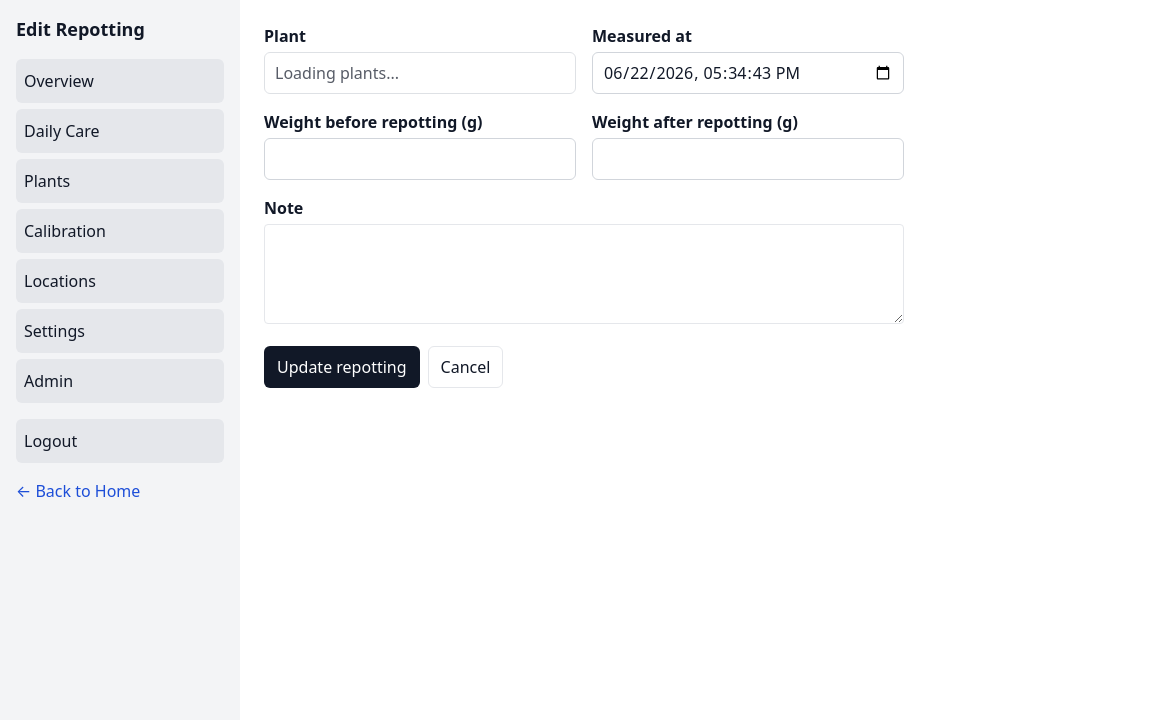
pages/RepottingCreate › edit flow: save error shows server message (update branch)
The width and height of the screenshot is (1152, 720).
Type "11" into the number field labelled "Weight before repotting (g)" at coordinates (420, 159), box [264, 138, 576, 180]
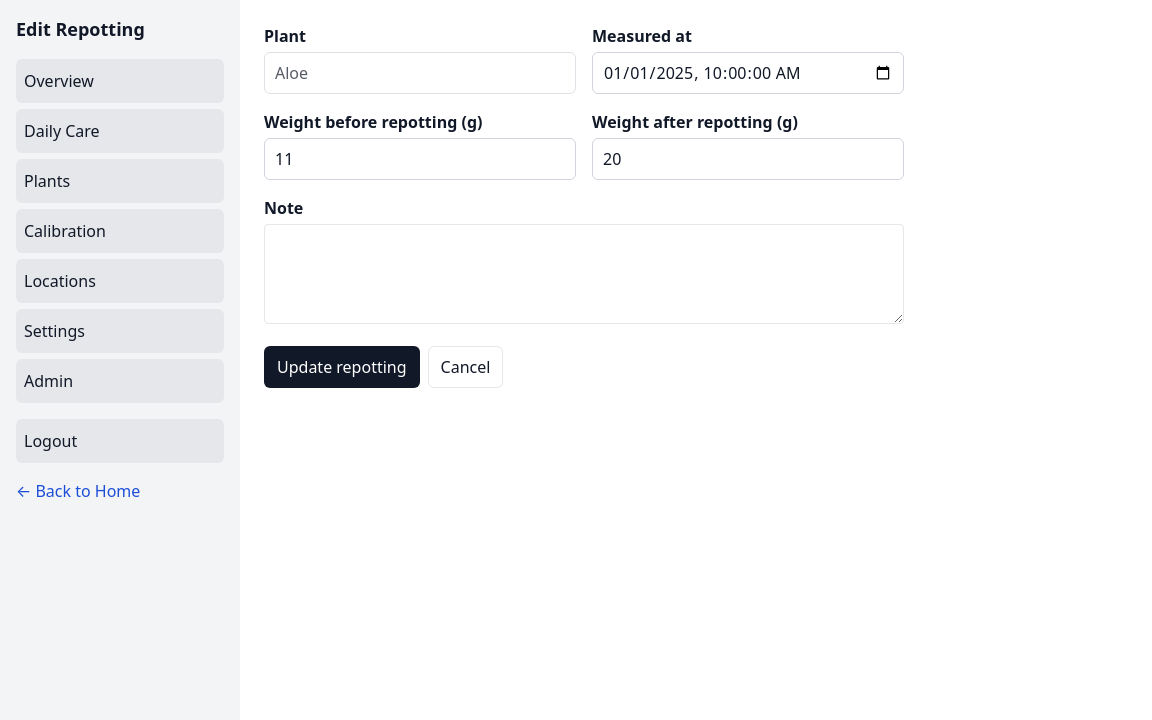
Replace the text in the number field labelled "Weight after repotting (g)" with "22" at coordinates (748, 159), box [592, 138, 904, 180]
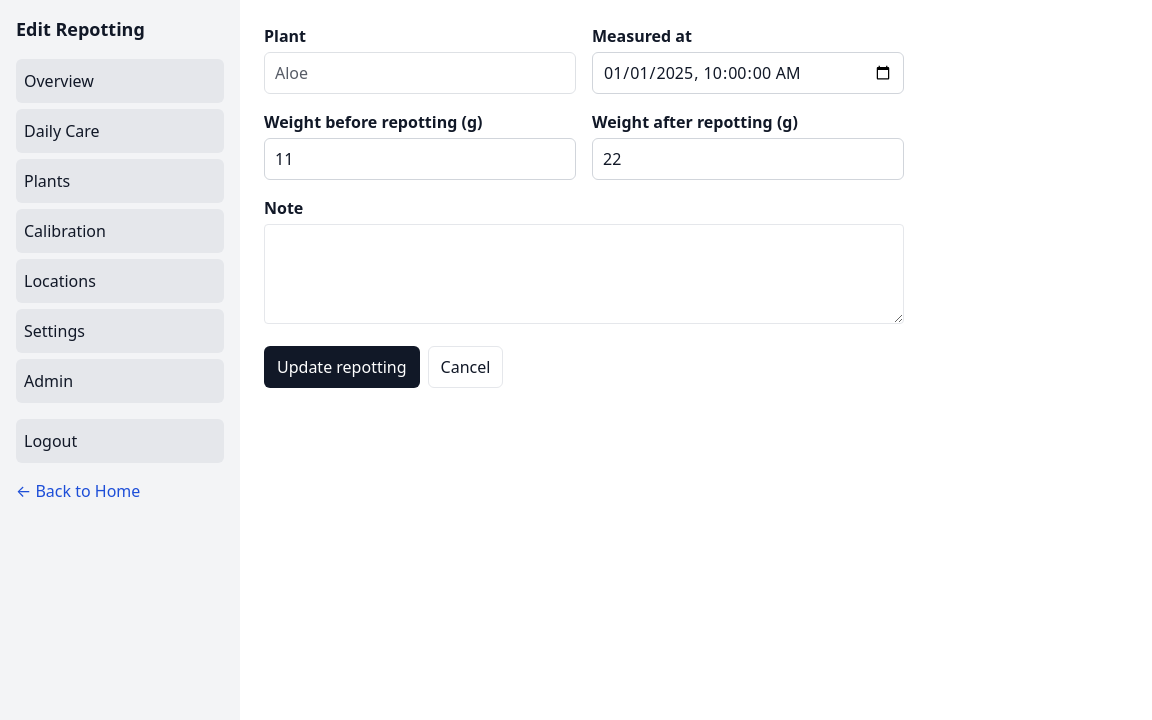
Click the button "Update repotting" at coordinates (342, 367), box [264, 346, 420, 388]
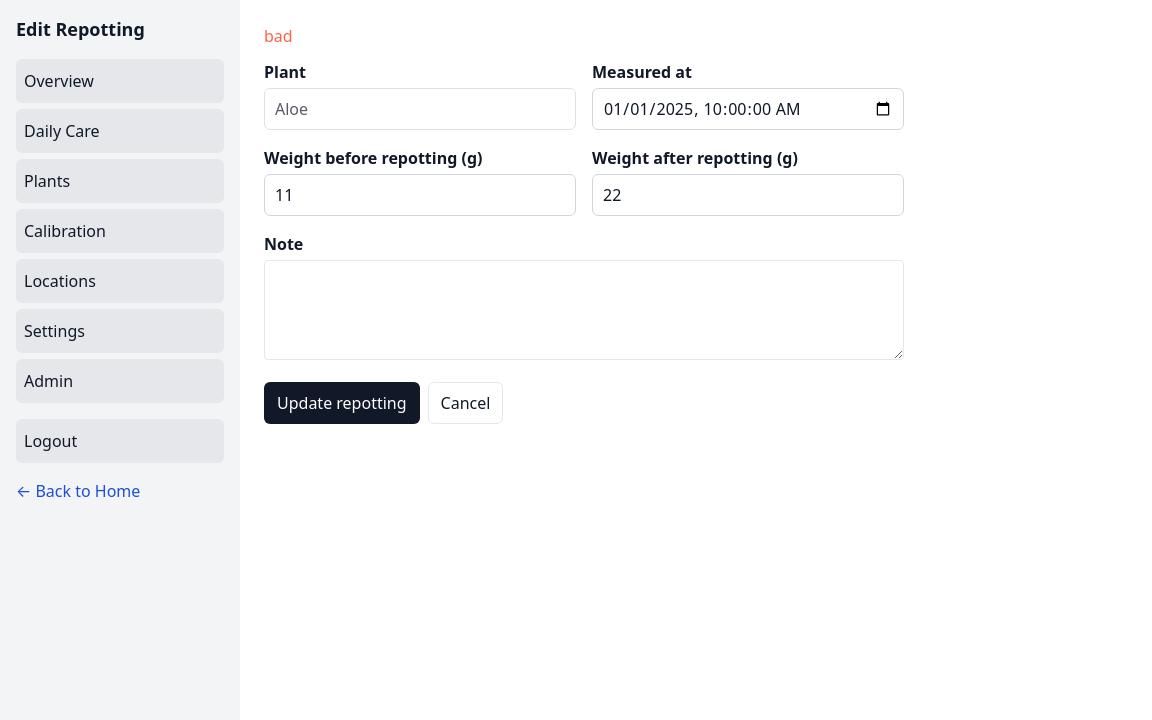
Now the text "bad" is shown, box [264, 25, 293, 47]
